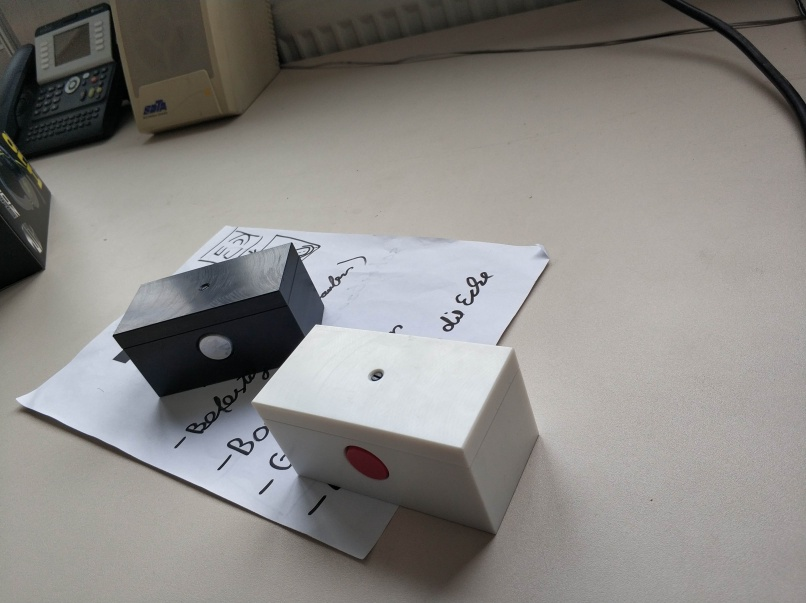black+black+silver: (110, 240, 326, 403)
white+white+red: (246, 319, 542, 540)
